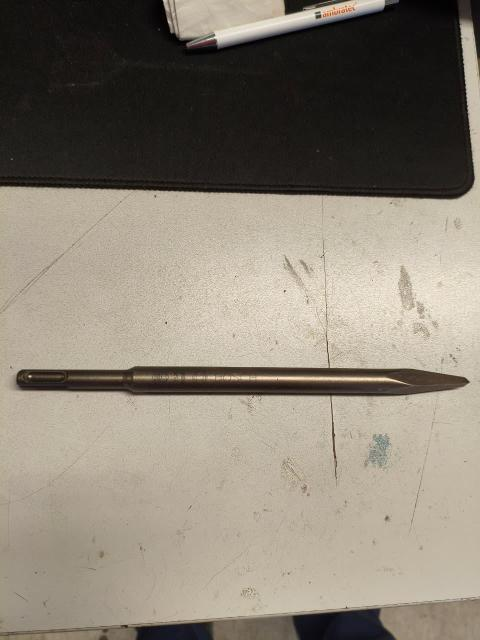Metal: (18, 360, 473, 402)
